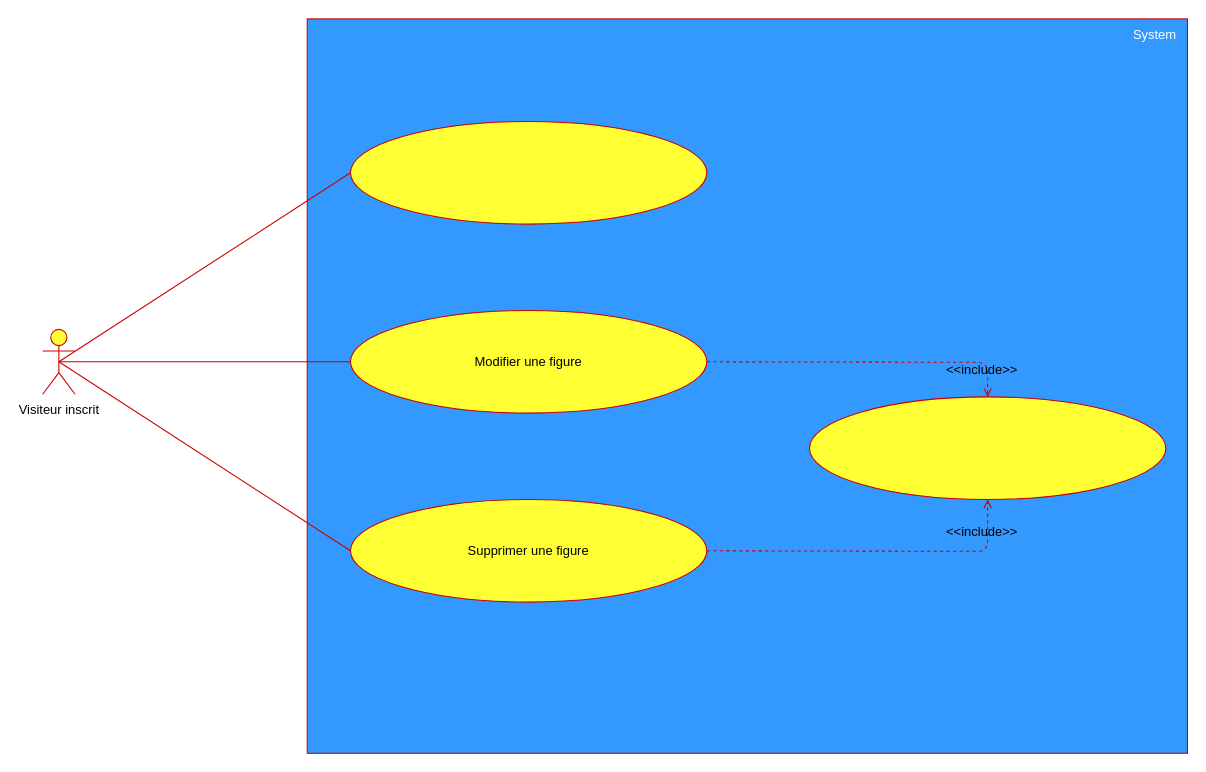
The diagram is 1206 pixels wide and 772 high, and some of its shapes have lost their labels. Each missing label, with the box of its shape:
Consulter les figures: (808, 396, 1166, 500)
Créer une figure: (349, 120, 707, 224)
